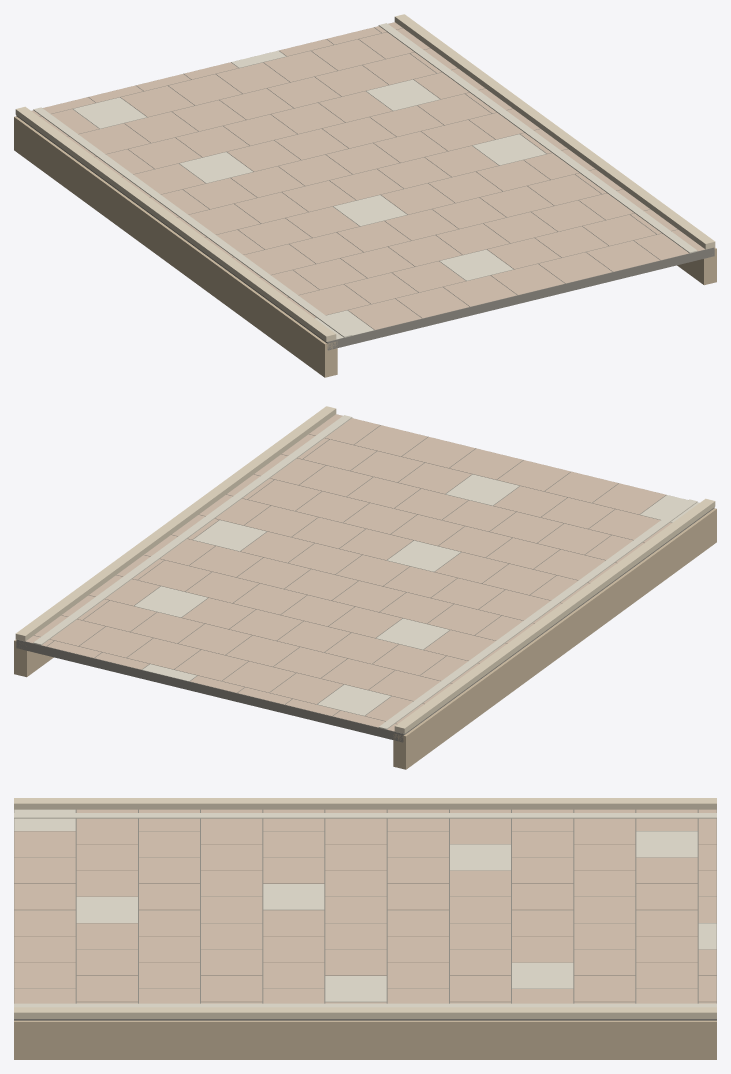
File: Promenade09.glb
The picture shows the model from 3 angles, top to bottom: view 1: azimuth 30°, elevation 25°; view 2: azimuth 150°, elevation 25°; view 3: azimuth 270°, elevation 25°; orthographic projection. The views are drawn at different scales.
Parts seen in each view (by area): view 1: Promenade09; view 2: Promenade09; view 3: Promenade09.
Part boxes in pixels (box(x1,y1,x2,y2)): Promenade09: box(14, 14, 716, 377); Promenade09: box(14, 406, 716, 769); Promenade09: box(14, 798, 716, 1059).
Size of the model in its own units: 12.76 by 1.27 by 17.52.
